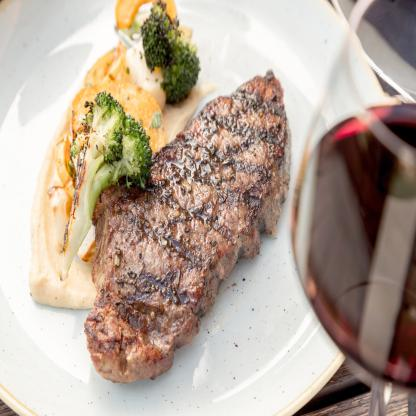Carne: (82, 55, 288, 388)
